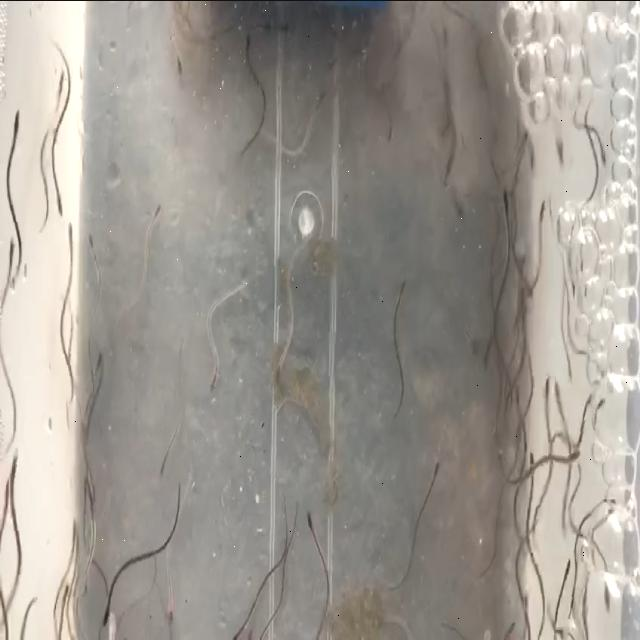active_glass_eel: (522, 134, 544, 182), (87, 342, 104, 399), (236, 19, 254, 70), (592, 384, 608, 434), (598, 580, 615, 626), (98, 584, 114, 632), (524, 437, 540, 485), (81, 465, 97, 513), (392, 266, 414, 300), (323, 46, 346, 78), (149, 182, 163, 234), (498, 604, 518, 640), (564, 430, 585, 464), (536, 190, 550, 238), (596, 131, 610, 179), (424, 448, 444, 481), (164, 588, 180, 628), (597, 491, 617, 523), (511, 383, 527, 423), (562, 542, 574, 595), (593, 480, 611, 514), (73, 454, 89, 492), (7, 454, 21, 496), (0, 476, 11, 529), (540, 367, 556, 403), (9, 106, 25, 142), (495, 188, 514, 218), (432, 32, 452, 60), (549, 364, 565, 398), (302, 502, 318, 536), (202, 368, 218, 401), (448, 185, 466, 214), (85, 226, 96, 270), (62, 222, 78, 252), (478, 344, 492, 378), (66, 511, 78, 550), (180, 4, 193, 40), (308, 90, 327, 114), (56, 56, 66, 100), (56, 579, 72, 606), (51, 190, 62, 224), (228, 618, 244, 640), (564, 350, 574, 384), (158, 463, 170, 489), (2, 250, 14, 276), (172, 60, 184, 86)
